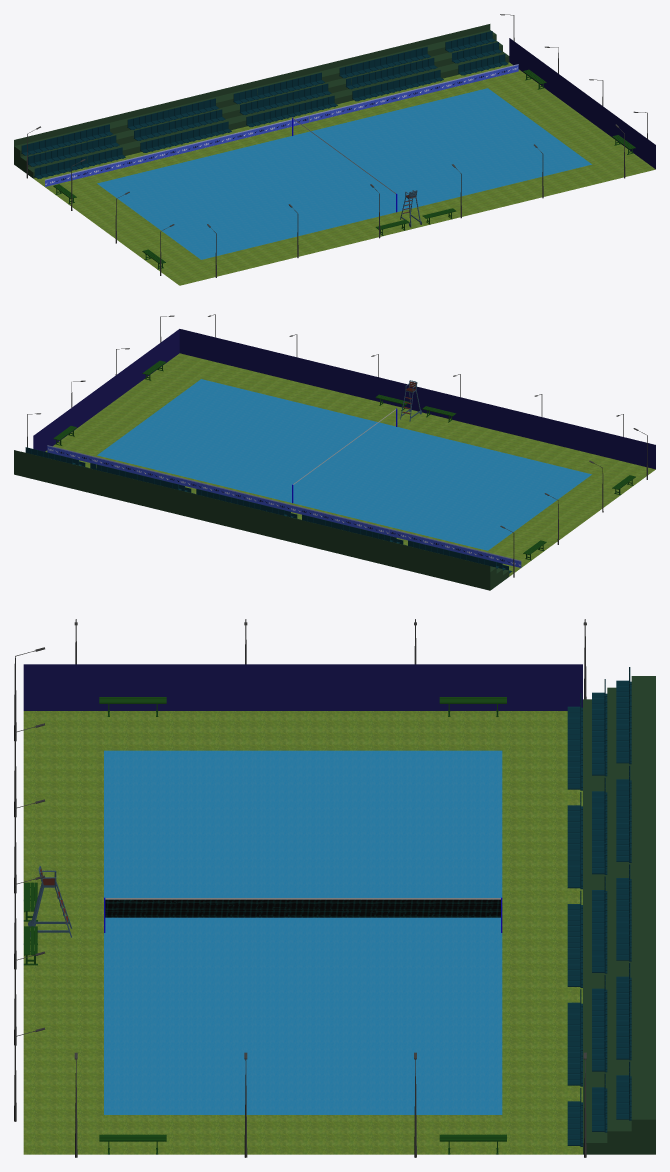
The model's file is Tennis Map.fbx.
3 views of the same model, one above another, from view 1: azimuth 30°, elevation 25°; view 2: azimuth 150°, elevation 25°; view 3: azimuth 270°, elevation 25° (orthographic). The views are drawn at different scales.
Visible parts, largest first — view 1: Plane.002, Plane.001, Plane.003, Cube.007, Cube.006, Cube.046, Advertisement banners; view 2: Plane.002, Plane.001, Plane.003, Advertisement banners, Cube.007; view 3: Plane.002, Plane.001, Plane.003, TennisNet, Cube.046, Cube.006, Cube.007, Cube, Cube.037.
Boxes of the visible parts, x1,y1,x2,y2 form: Plane.002: (97,88,591,259); Plane.001: (33,38,655,285); Plane.003: (14,24,509,178); Cube.007: (21,31,495,155); Cube.006: (28,42,501,166); Cube.046: (34,54,508,178); Advertisement banners: (45,64,518,186); Plane.002: (97,379,591,550); Plane.001: (33,329,655,576); Plane.003: (14,450,509,590); Advertisement banners: (47,445,521,567); Cube.007: (25,447,499,568); Plane.002: (104,750,502,1114); Plane.001: (23,664,582,1154); Plane.003: (583,676,655,1154); TennisNet: (105,899,500,917); Cube.046: (567,693,582,1146); Cube.006: (592,679,607,1132); Cube.007: (616,667,631,1120); Cube: (104,897,502,932); Cube.037: (28,866,72,937).
Size of the model in its own units: 37920 by 3672 by 22637.
Materials: 14 (4 with a texture image).
